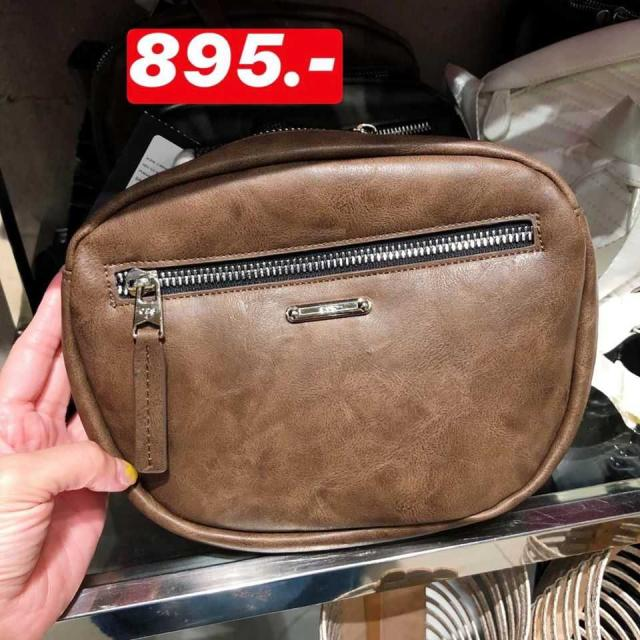handbag: (55, 128, 599, 553)
